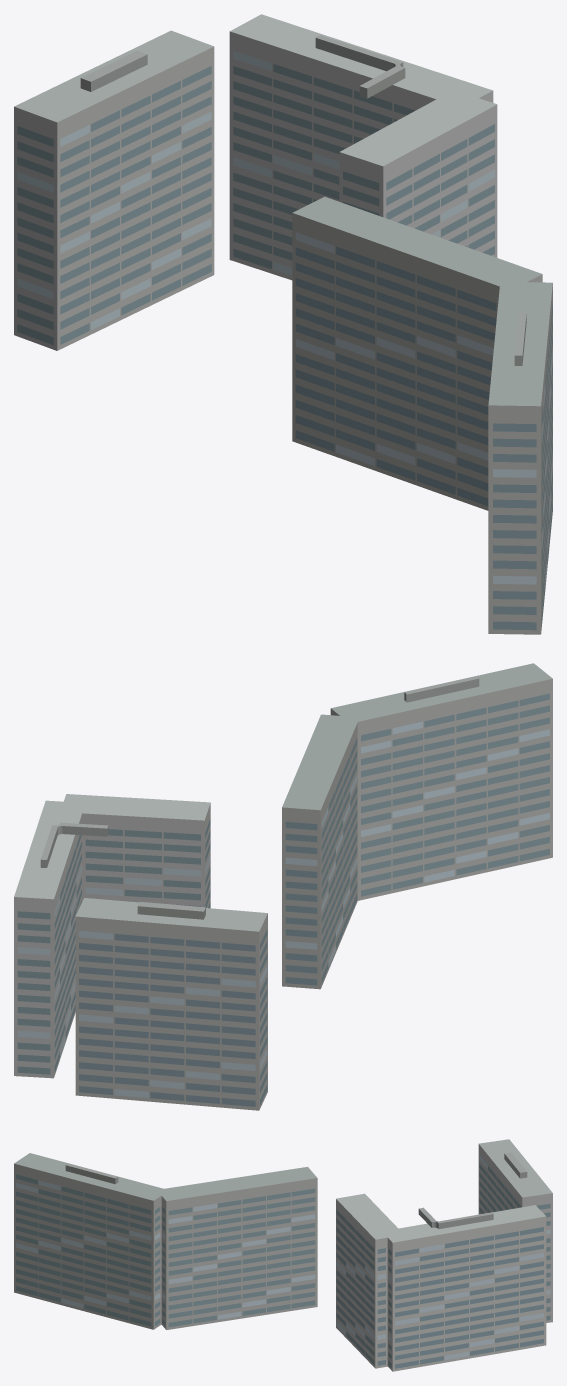
The model's file is apt-a13770105.glb.
The picture shows the model from 3 angles, top to bottom: view 1: azimuth 30°, elevation 25°; view 2: azimuth 150°, elevation 25°; view 3: azimuth 270°, elevation 25°; orthographic projection. The views are drawn at different scales.
Parts seen in each view (by area): view 1: apt-a13770105; view 2: apt-a13770105; view 3: apt-a13770105.
Part boxes in pixels (bbox=[...]): apt-a13770105: bbox=[14, 14, 552, 634]; apt-a13770105: bbox=[14, 663, 552, 1110]; apt-a13770105: bbox=[14, 1139, 552, 1371].
Size of the model in its own units: 78.75 by 47.81 by 173.
